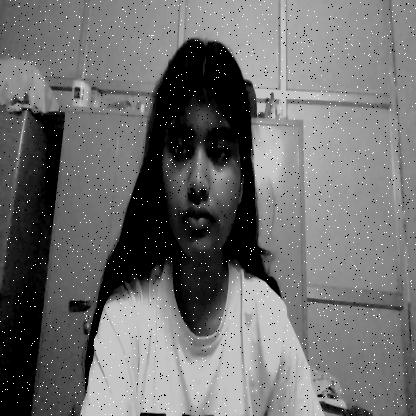Normal: (151, 46, 247, 272)
